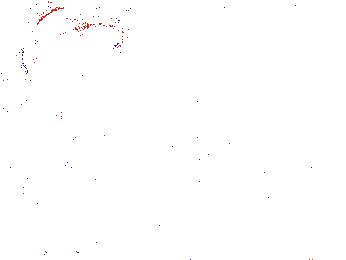moon jellyfish: (131, 1, 236, 98), (24, 6, 127, 80)
